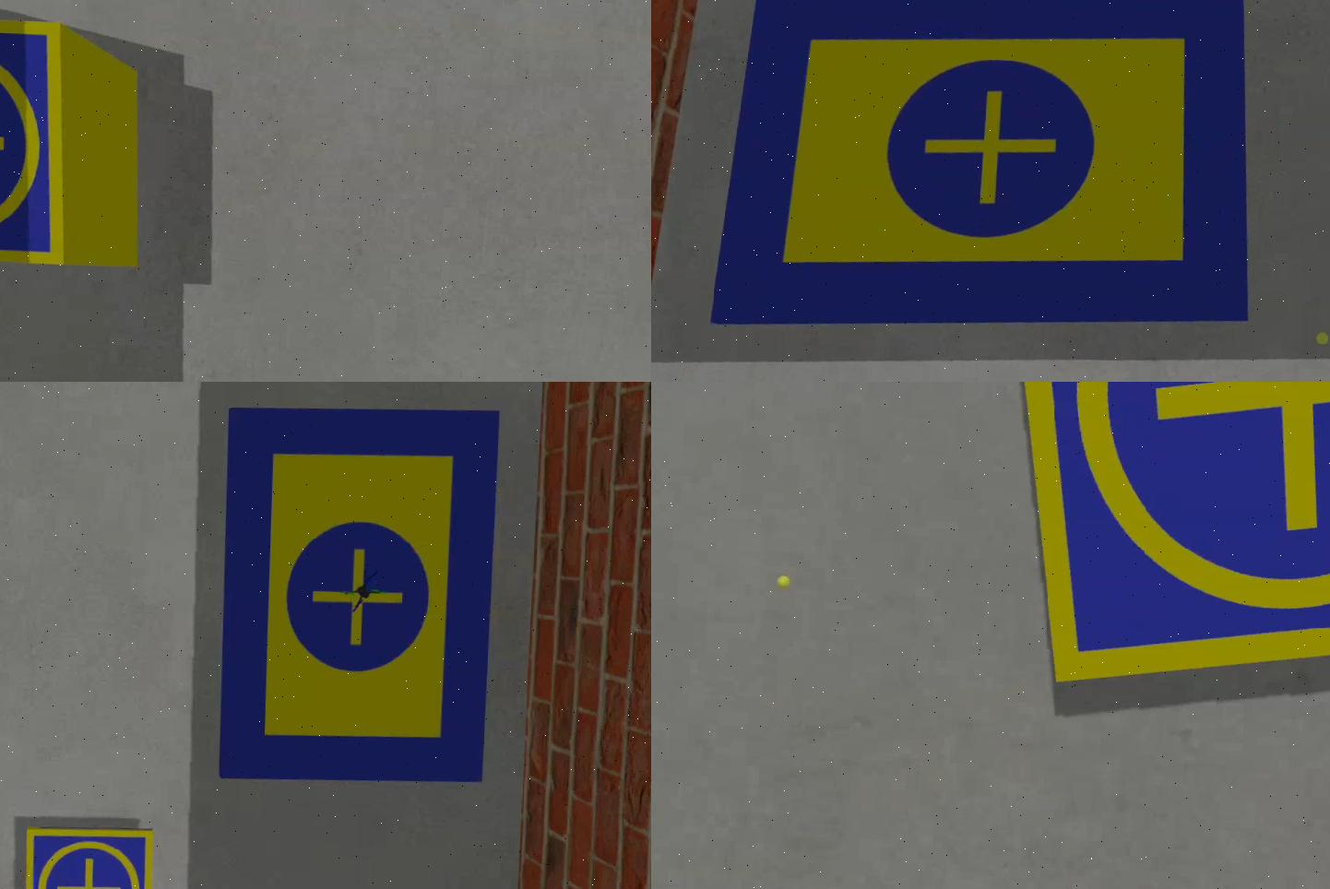large_base: (707, 1, 1262, 340), (219, 400, 502, 791)
small_base: (998, 383, 1330, 706), (1, 14, 84, 269), (21, 824, 159, 889)
